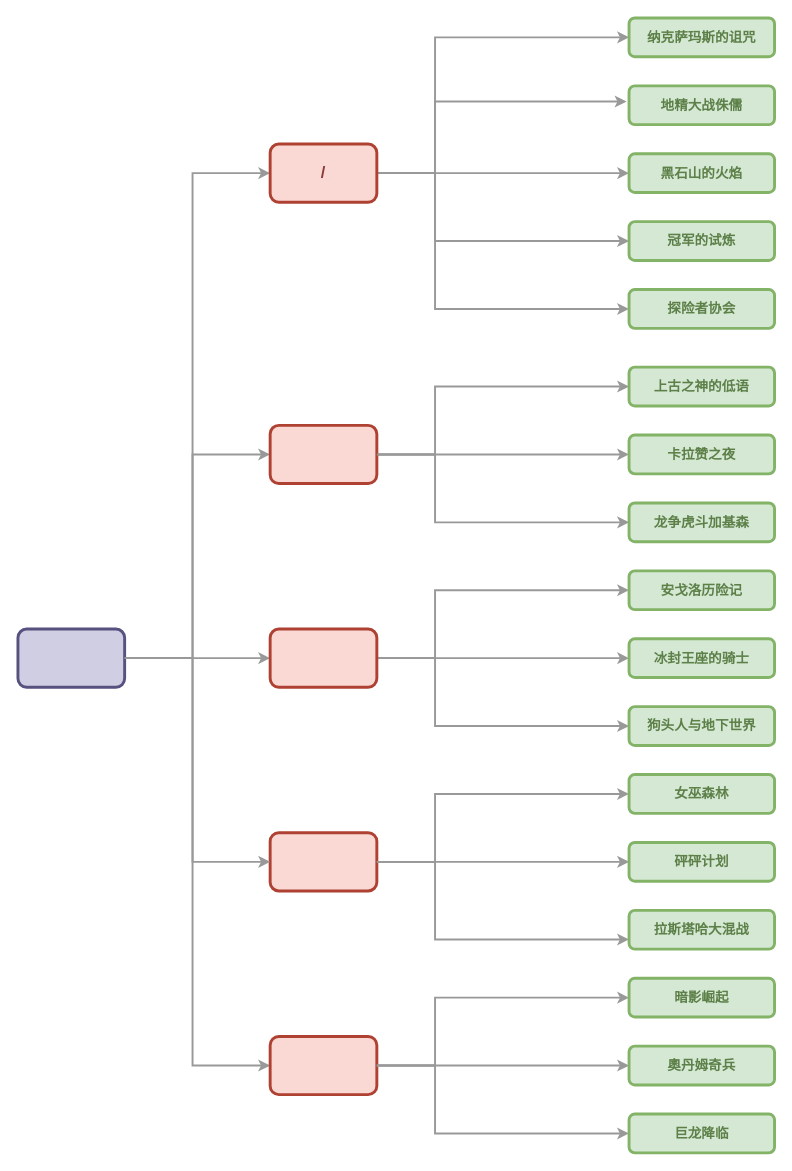
This 792x1171 diagram has some shape labels left out. The shapes that lost their labels are listed below. From the top down, each one's box as (x1, y1, x2, y2) in pixels, then its label:
(268, 423, 378, 485): 海怪年
(16, 627, 126, 688): 冒险模式
(268, 627, 378, 688): 猛玛年
(268, 831, 378, 892): 渡鸦年
(268, 1035, 378, 1096): 巨龙年
